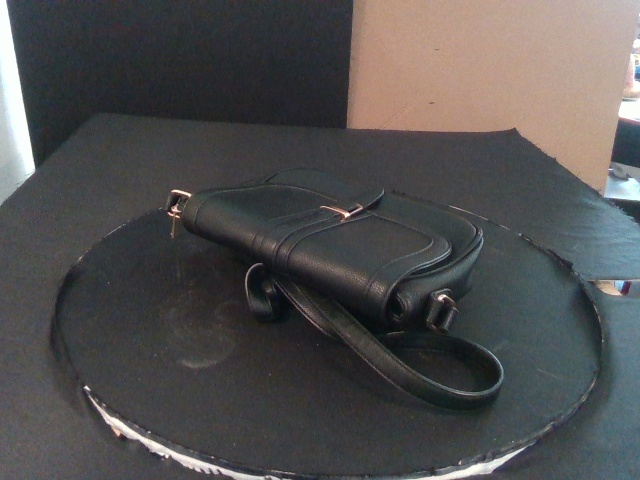bag: (178, 167, 485, 317)
